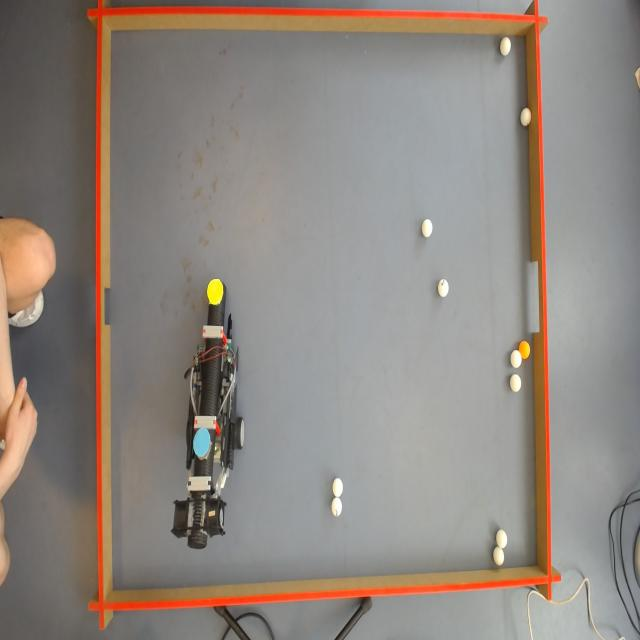orange: (519, 339, 530, 358)
robot: (173, 273, 245, 553)
robot-front: (206, 281, 223, 304)
robot-rear: (188, 428, 213, 459)
white: (492, 545, 505, 567), (518, 106, 530, 128), (421, 219, 434, 239), (500, 39, 513, 58), (496, 528, 508, 548), (509, 375, 522, 393), (332, 478, 343, 496), (510, 350, 522, 366), (438, 278, 448, 296), (332, 499, 342, 516)
